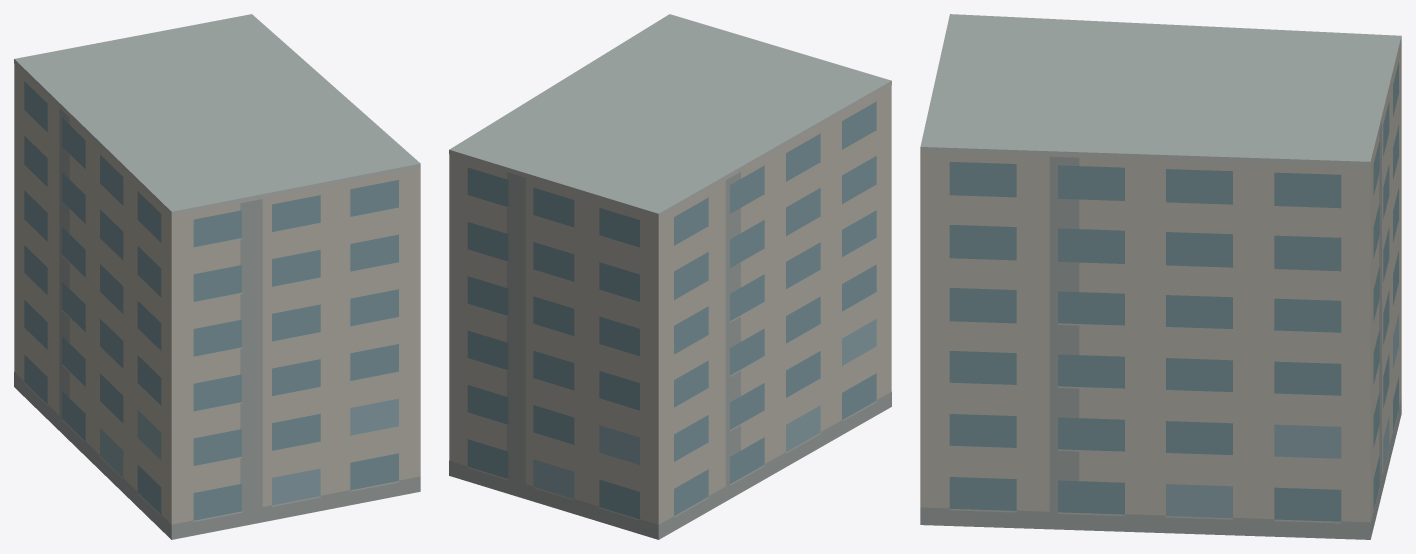
File: survey-upis-32564252.glb
The picture shows the model from 3 angles, left to right: view 1: azimuth 30°, elevation 25°; view 2: azimuth 150°, elevation 25°; view 3: azimuth 270°, elevation 25°; orthographic projection. The views are drawn at different scales.
Parts seen in each view (by area): view 1: survey-upis-32564252.tmp; view 2: survey-upis-32564252.tmp; view 3: survey-upis-32564252.tmp.
Part boxes in pixels (<box>): survey-upis-32564252.tmp: <box>14,14,420,539</box>; survey-upis-32564252.tmp: <box>449,14,891,539</box>; survey-upis-32564252.tmp: <box>920,14,1401,539</box>.
Size of the model in its own units: 14.01 by 16.7 by 19.27.
